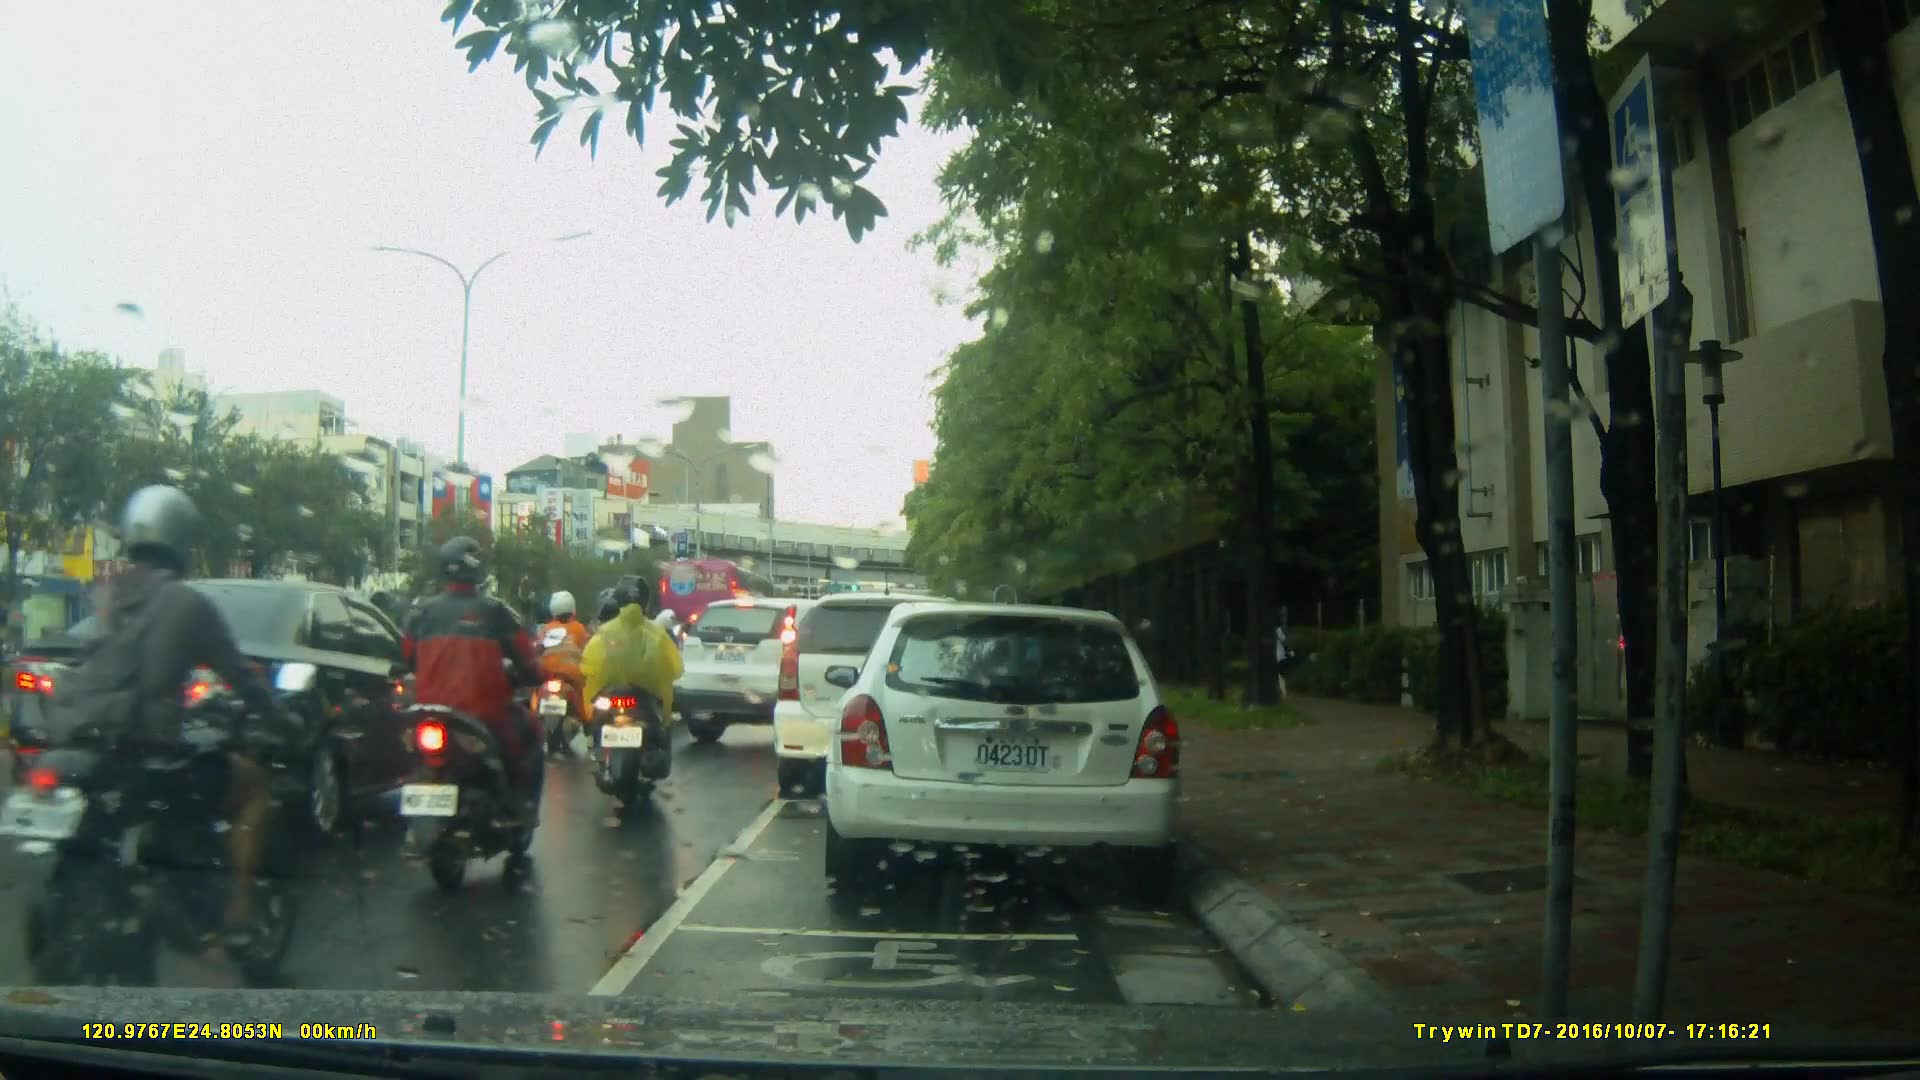rider: (22, 489, 326, 1003), (404, 539, 569, 892), (580, 583, 689, 815), (582, 584, 660, 780), (531, 593, 596, 755)
vehicle: (11, 576, 471, 849), (835, 594, 1194, 898), (776, 590, 1026, 784), (669, 592, 909, 750), (657, 558, 776, 642)
